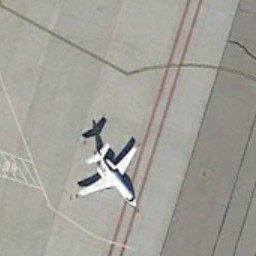Airplane: (72, 135, 147, 214)
